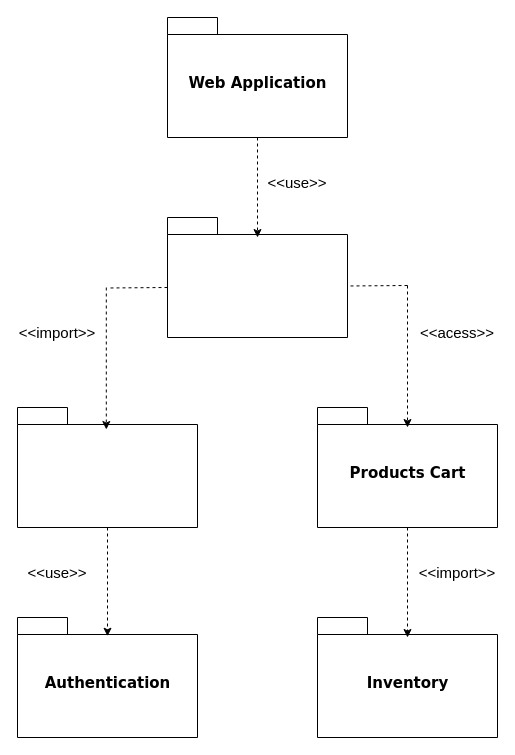
This 515x755 diagram has some shape labels left out. Here are the shapes that lost their labels. From the top down, the centre of each, then its label:
At pixel 257 277: "Reservation System".
At pixel 107 467: "Customer".
